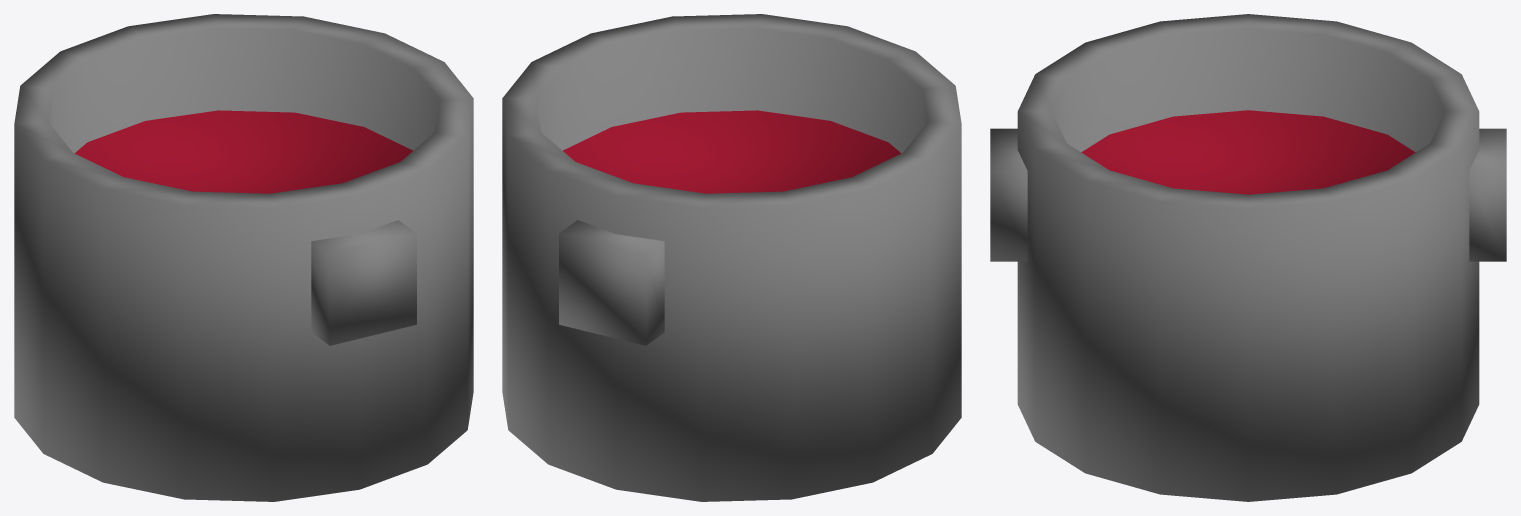
The model's file is potFull.fbx.
The picture shows the model from 3 angles, left to right: view 1: azimuth 30°, elevation 25°; view 2: azimuth 150°, elevation 25°; view 3: azimuth 270°, elevation 25°; orthographic projection.
Visible parts, largest first — view 1: PotEmpty.001; view 2: PotEmpty.001; view 3: PotEmpty.001.
Part boxes in pixels (left/top/right/bottom): PotEmpty.001: left=14, top=14, right=473, bottom=501; PotEmpty.001: left=502, top=14, right=961, bottom=501; PotEmpty.001: left=990, top=14, right=1506, bottom=501.
Size of the model in its own units: 60 by 42 by 67.06.
